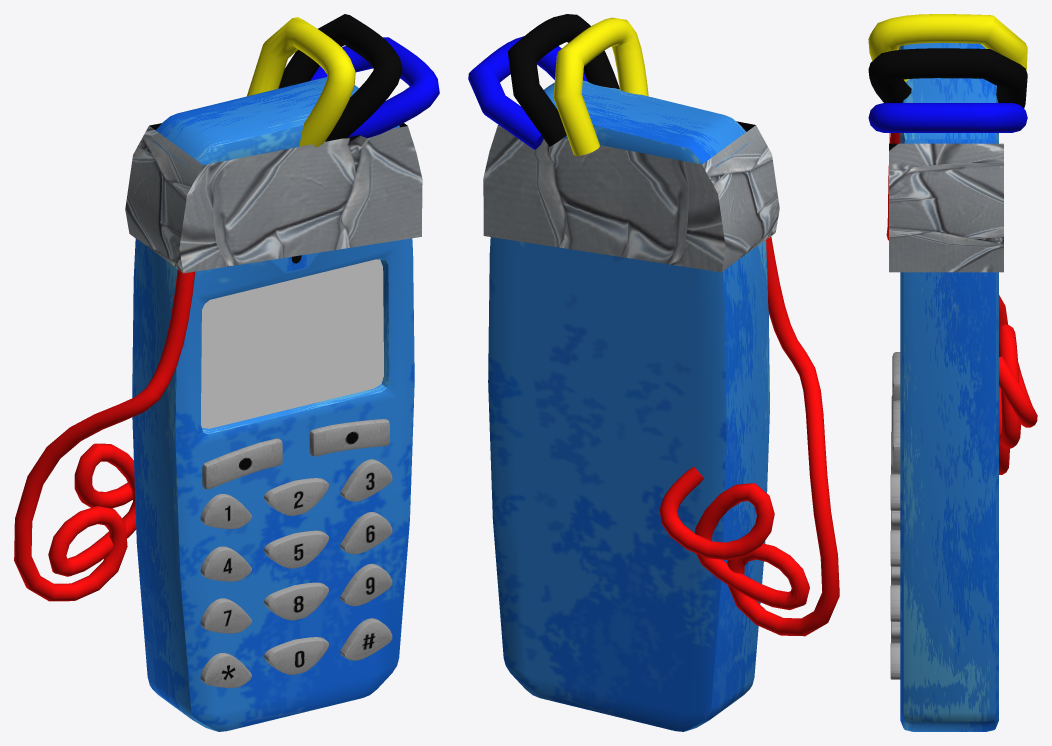
File: Bomb_Phone.fbx
3 renders of one model, left to right at view 1: azimuth 30°, elevation 25°; view 2: azimuth 150°, elevation 25°; view 3: azimuth 270°, elevation 25°, orthographic. The views are drawn at different scales.
Visible parts, largest first — view 1: Phone, Tape, Screen, Buttons, Red_Wire, Line007, Line006, Line005, Top_Button_R001, Top_Button_R; view 2: Phone, Tape, Red_Wire, Line007, Line006, Line005; view 3: Phone, Tape, Line006, Line007, Line005, Red_Wire, Buttons, Top_Button_R, Top_Button_R001.
Part boxes in pixels (box(x1,y1,x2,y2)): Phone: box(132, 77, 414, 731); Tape: box(125, 123, 422, 273); Screen: box(201, 259, 383, 428); Buttons: box(200, 459, 392, 687); Red_Wire: box(14, 269, 195, 601); Line007: box(247, 17, 355, 147); Line006: box(278, 14, 402, 141); Line005: box(310, 37, 439, 138); Top_Button_R001: box(202, 438, 282, 489); Top_Button_R: box(309, 419, 389, 456); Phone: box(488, 80, 769, 731); Tape: box(483, 121, 779, 272); Red_Wire: box(659, 236, 839, 636); Line007: box(553, 17, 648, 155); Line006: box(508, 14, 619, 146); Line005: box(468, 36, 587, 149); Phone: box(900, 43, 998, 731); Tape: box(889, 46, 1003, 272); Line006: box(868, 48, 1027, 108); Line007: box(868, 14, 1027, 81); Line005: box(868, 103, 1027, 132); Red_Wire: box(886, 133, 1037, 474); Buttons: box(890, 395, 900, 679); Top_Button_R: box(892, 400, 900, 471); Top_Button_R001: box(892, 352, 900, 404).
Bounding box in the file's own units: 187 × 314 × 68.7.
Materials: 20 (16 with a texture image).
